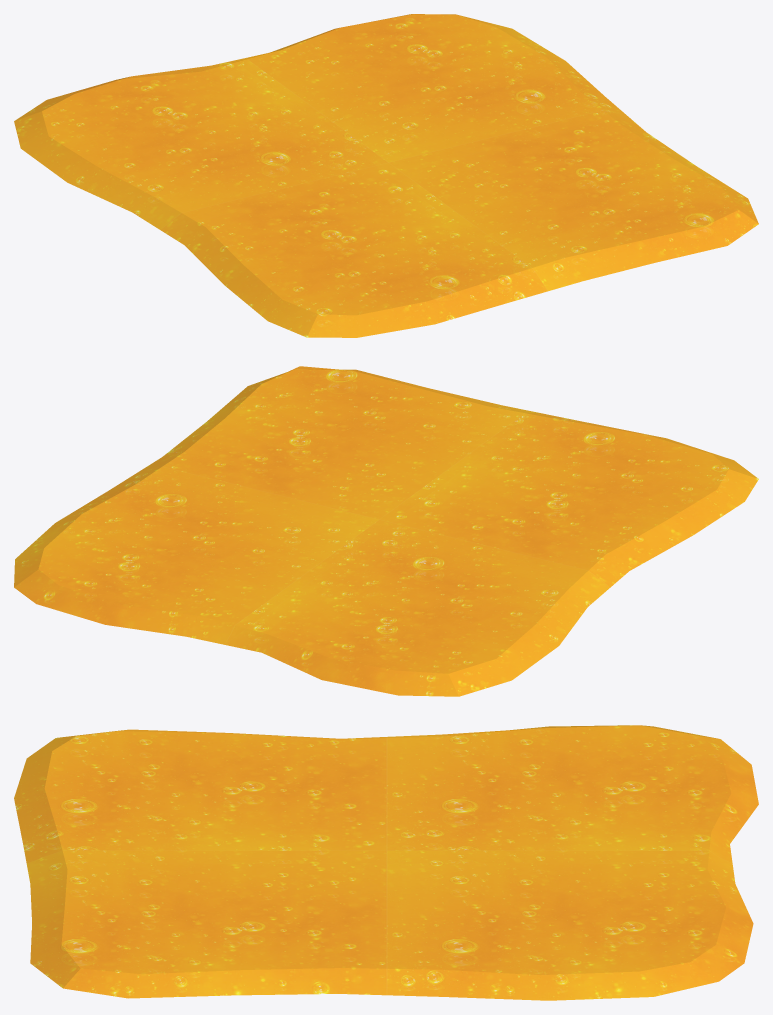
The model's file is honey.fbx.
3 views of the same model, one above another, from view 1: azimuth 30°, elevation 25°; view 2: azimuth 150°, elevation 25°; view 3: azimuth 270°, elevation 25° (orthographic). The views are drawn at different scales.
Parts seen in each view (by area): view 1: Honey; view 2: Honey; view 3: Honey.
Part boxes in pixels (x1,y1,x2,y2): Honey: (14,14,758,337); Honey: (14,366,758,696); Honey: (14,725,758,1000).
Bounding box in the file's own units: 0.7237 × 0.0162 × 0.8306.
1 material, 1 textured.
